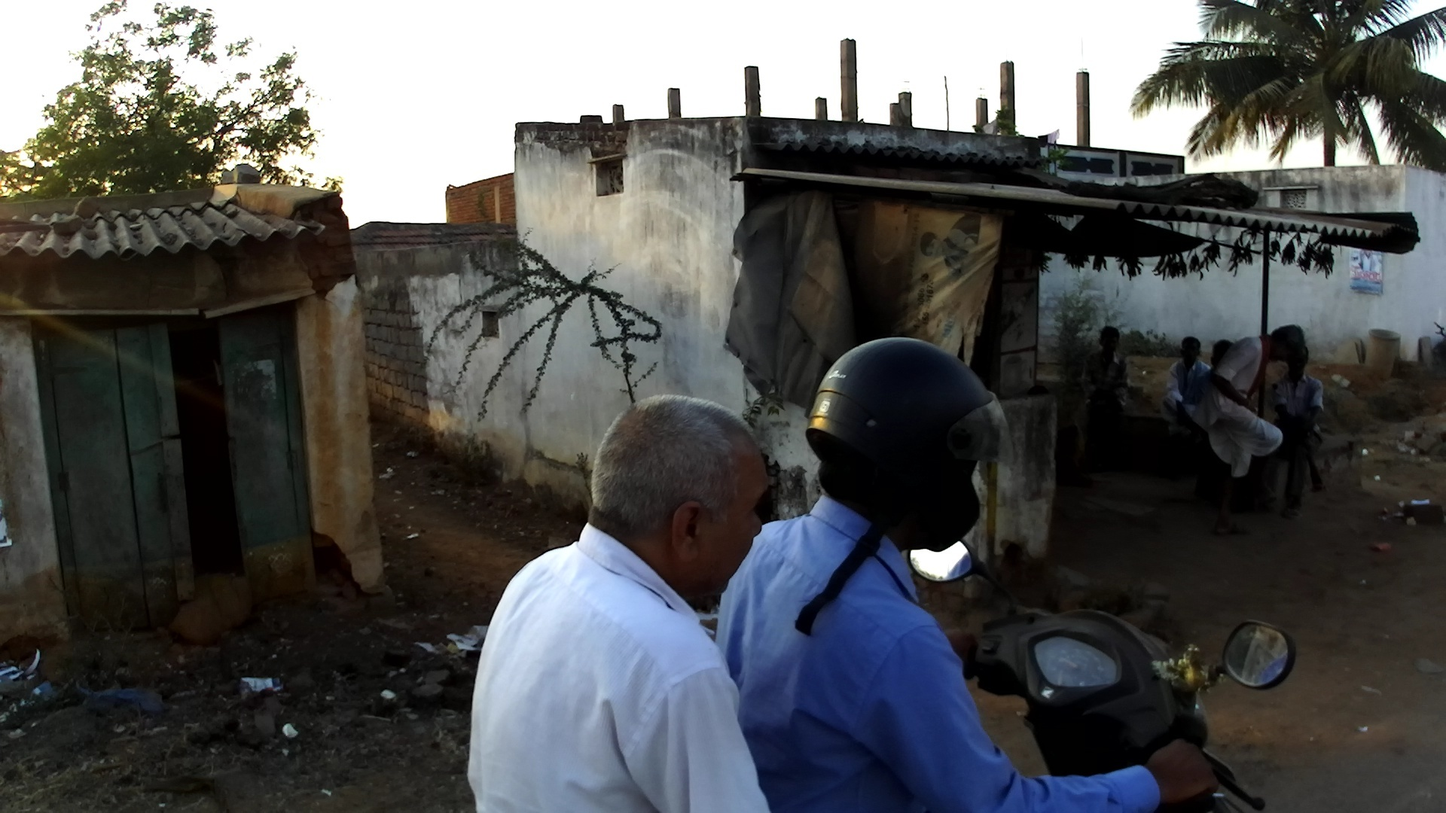motorcycle: (906, 538, 1298, 813)
person: (1192, 327, 1307, 540), (1268, 346, 1326, 520), (1071, 324, 1130, 461), (1162, 333, 1211, 474), (1188, 339, 1238, 410)
rider: (719, 336, 1220, 813), (467, 393, 768, 813)
